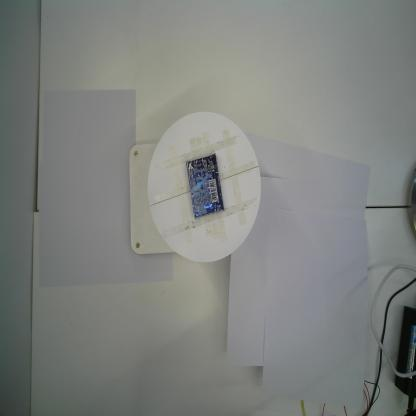Gum: (186, 154, 224, 219)
